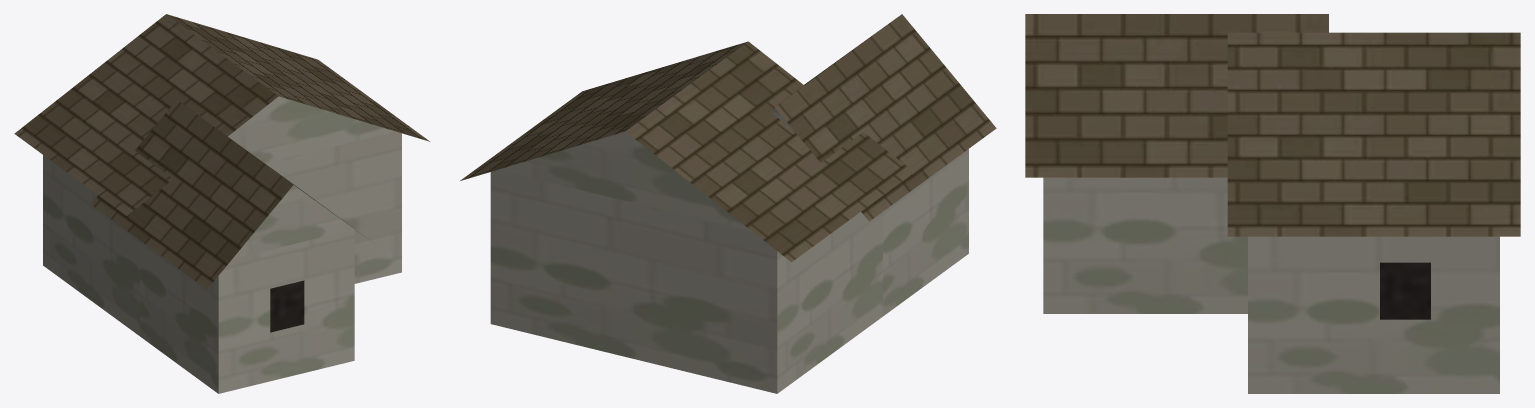
File: ae_forest_stone_medium_court_lod2.glb
The picture shows the model from 3 angles, left to right: view 1: azimuth 30°, elevation 25°; view 2: azimuth 150°, elevation 25°; view 3: azimuth 270°, elevation 25°; orthographic projection. The views are drawn at different scales.
Visible parts, largest first — view 1: ae_forest_stone_medium_court_lod2; view 2: ae_forest_stone_medium_court_lod2; view 3: ae_forest_stone_medium_court_lod2.
Part boxes in pixels (x1,y1,x2,y2): ae_forest_stone_medium_court_lod2: [14, 14, 429, 393]; ae_forest_stone_medium_court_lod2: [460, 14, 996, 393]; ae_forest_stone_medium_court_lod2: [1025, 14, 1520, 393].
Bounding box in the file's own units: 5.8 × 4.15 × 6.29.
Materials: 1 (1 with a texture image).
